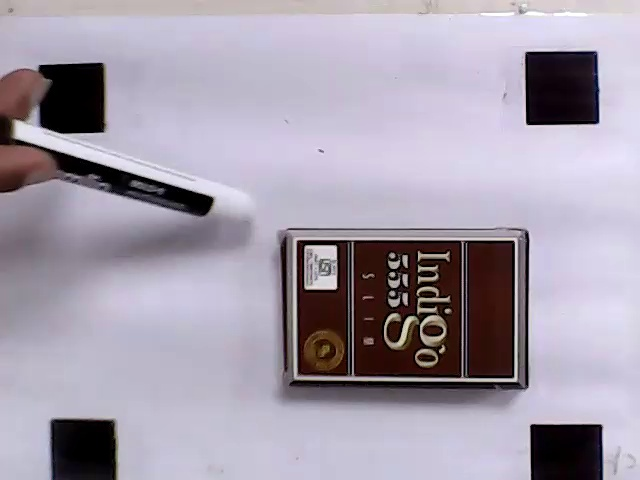BEX: (294, 238, 515, 382)
